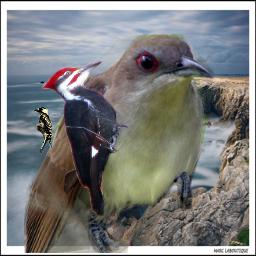Cuckoo: (24, 34, 214, 253)
Woodpecker: (42, 61, 128, 216), (33, 107, 53, 154)
